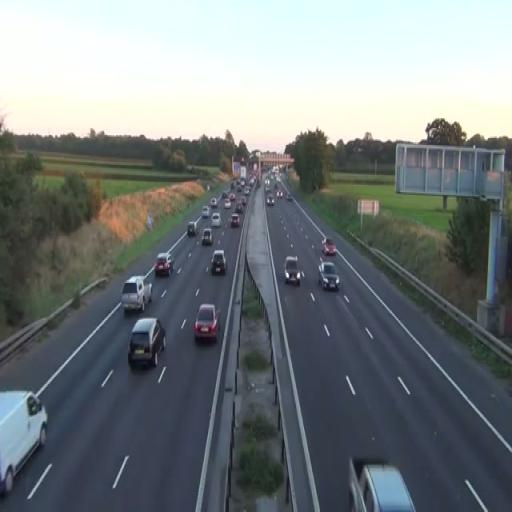Car: (348, 455, 416, 512), (128, 317, 166, 370), (121, 274, 153, 314), (193, 304, 220, 344), (318, 262, 340, 292), (284, 255, 300, 285), (154, 252, 174, 276), (210, 250, 228, 275), (320, 238, 338, 257), (202, 228, 212, 246), (211, 212, 221, 226), (230, 214, 240, 228), (202, 206, 210, 218)
Truck: (0, 390, 49, 496)
